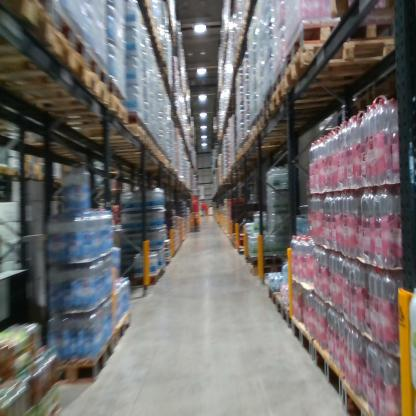pallet: (281, 36, 396, 97), (282, 17, 387, 71), (1, 29, 86, 93), (13, 63, 108, 108), (45, 337, 111, 395), (41, 91, 131, 127), (1, 2, 53, 51), (268, 82, 338, 118), (312, 341, 344, 402), (261, 107, 325, 132), (342, 378, 381, 414), (293, 314, 317, 367), (332, 4, 407, 20), (126, 267, 166, 293), (109, 308, 131, 353), (247, 260, 294, 277), (245, 251, 293, 267), (276, 295, 294, 335), (272, 281, 293, 306), (270, 67, 284, 98), (9, 160, 24, 185), (1, 160, 9, 177)
pallet_truck: (187, 183, 201, 235)
